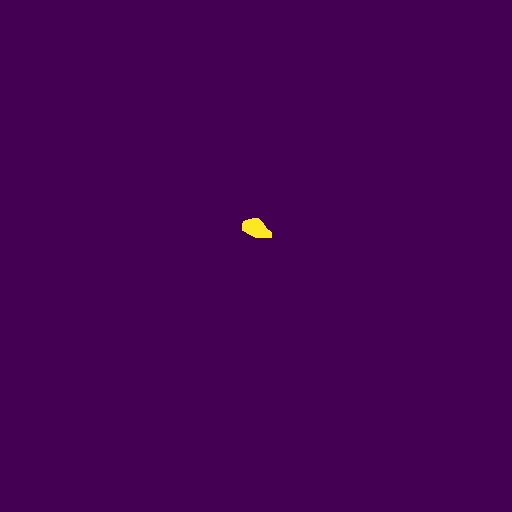Pituirity_tumour: (242, 218, 272, 238)
